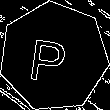P_N: (32, 29, 76, 84)
